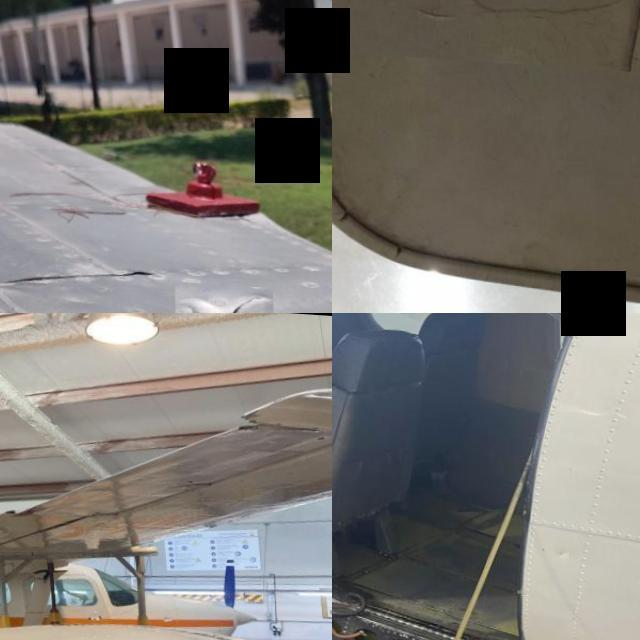Crack: (332, 0, 640, 67), (174, 276, 273, 313), (238, 404, 250, 414)
Dent: (554, 539, 568, 554)
